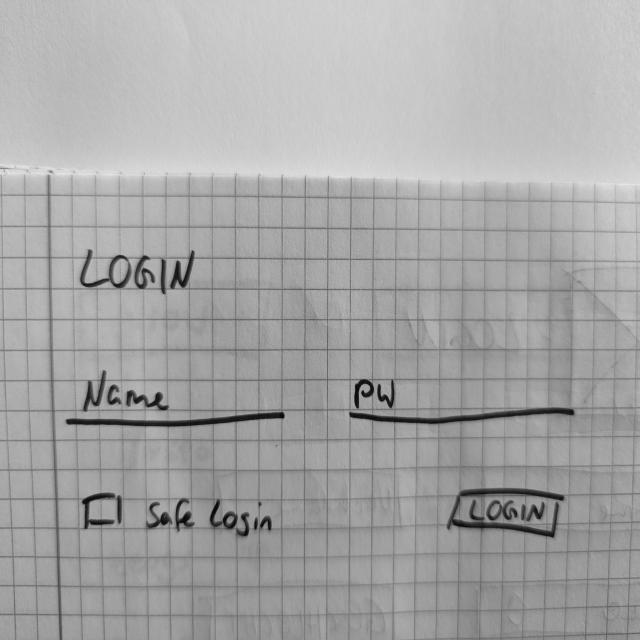button: (445, 484, 564, 540)
checkbox: (78, 487, 276, 538)
input: (63, 366, 288, 429), (348, 375, 577, 429)
label: (74, 244, 199, 295)
